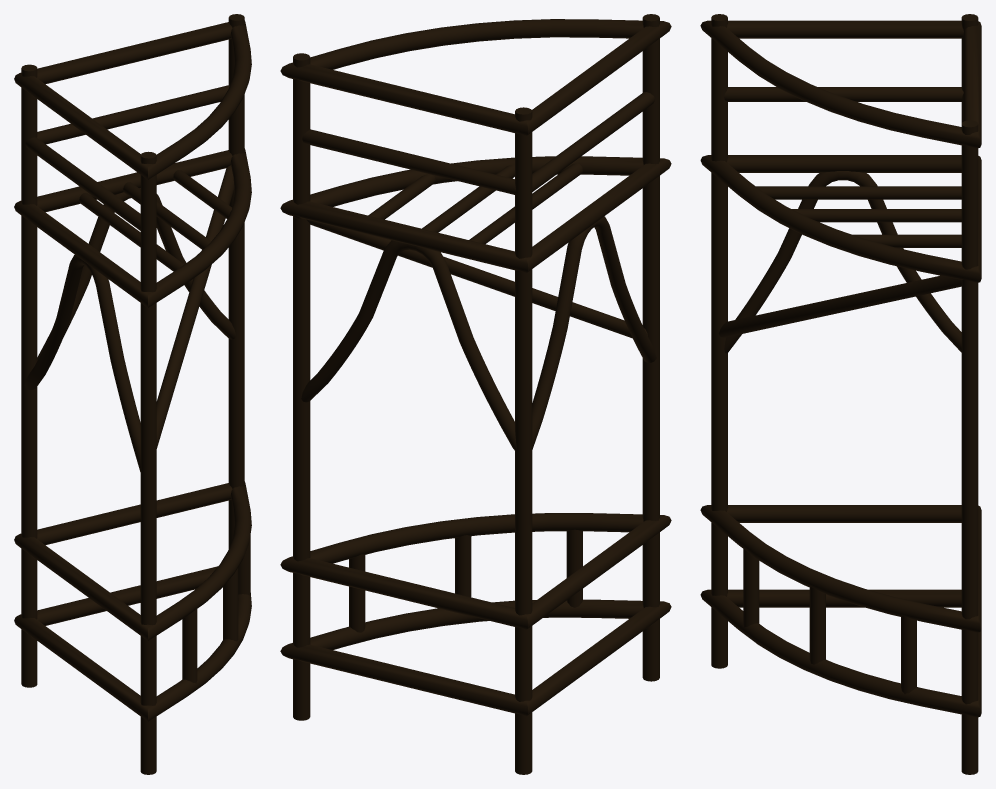
File: Apoya_Maceta.fbx
3 views of the same model, side by side, from view 1: azimuth 30°, elevation 25°; view 2: azimuth 150°, elevation 25°; view 3: azimuth 270°, elevation 25° (orthographic). The views are drawn at different scales.
Visible parts, largest first — view 1: Apoya Maceta; view 2: Apoya Maceta; view 3: Apoya Maceta.
Boxes of the visible parts, left/top/right/bottom form: Apoya Maceta: left=14, top=14, right=251, bottom=774; Apoya Maceta: left=280, top=14, right=671, bottom=774; Apoya Maceta: left=700, top=14, right=981, bottom=774.
Size of the model in its own units: 1.09 by 2.77 by 1.09.
